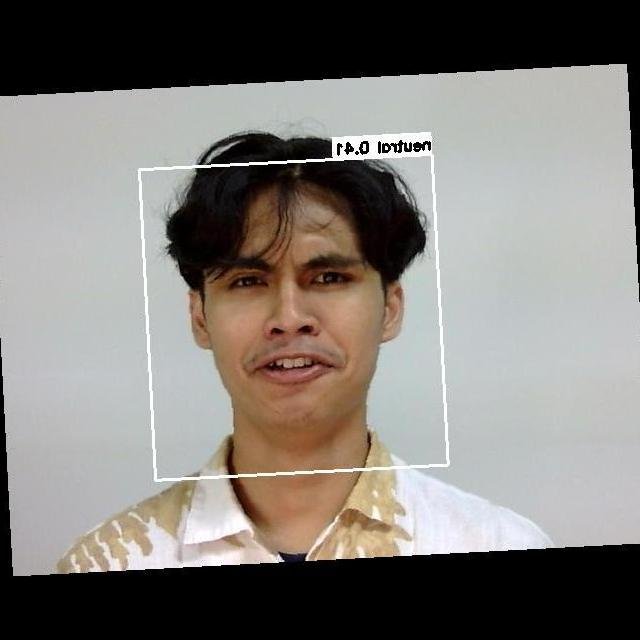Fear: (177, 218, 398, 418)
